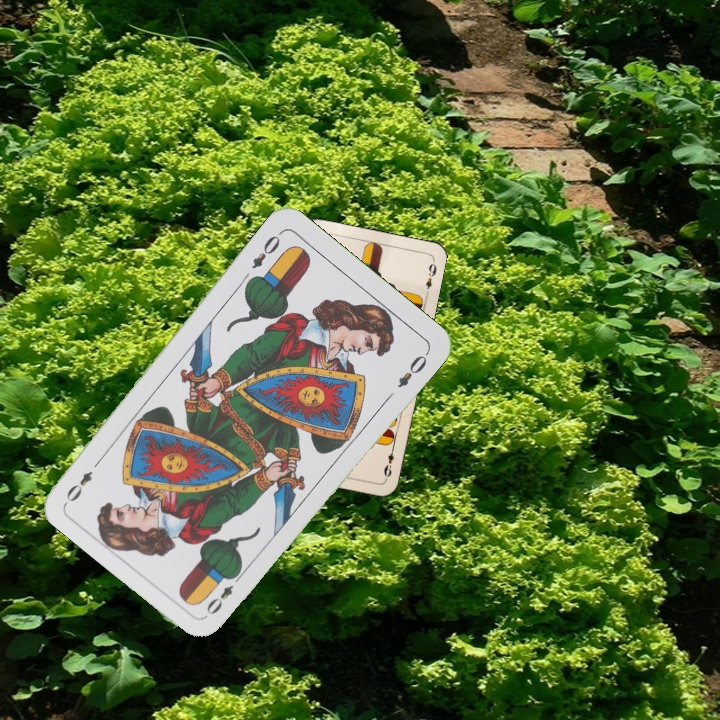E9: (380, 441, 397, 480)
EO: (202, 568, 246, 617), (247, 227, 285, 272)
